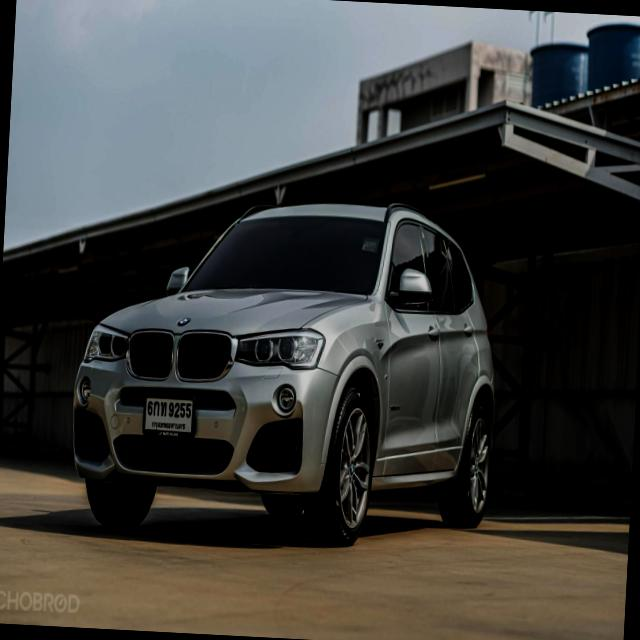license_plate: (141, 384, 201, 442)
